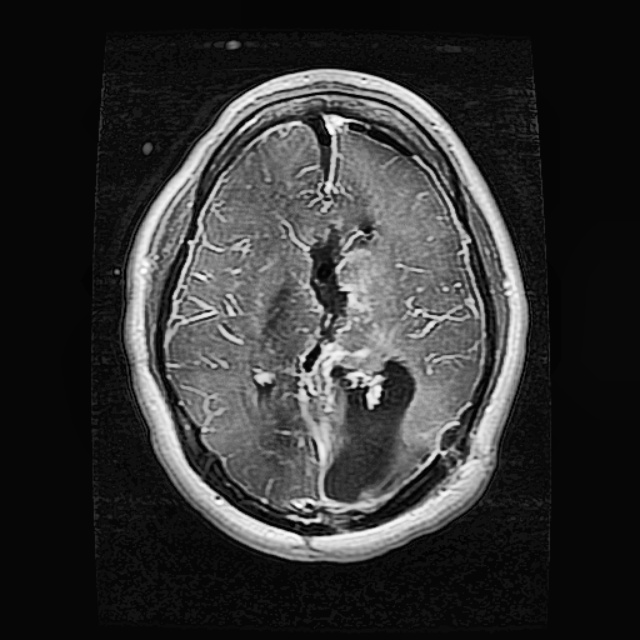Meningioma: (295, 214, 420, 504)
